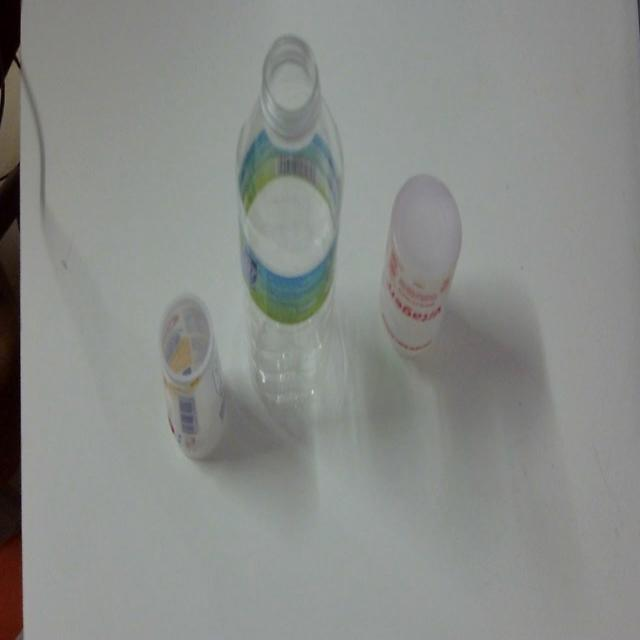plastic_standrotation: (232, 36, 351, 425), (144, 286, 242, 481), (377, 167, 466, 362)
